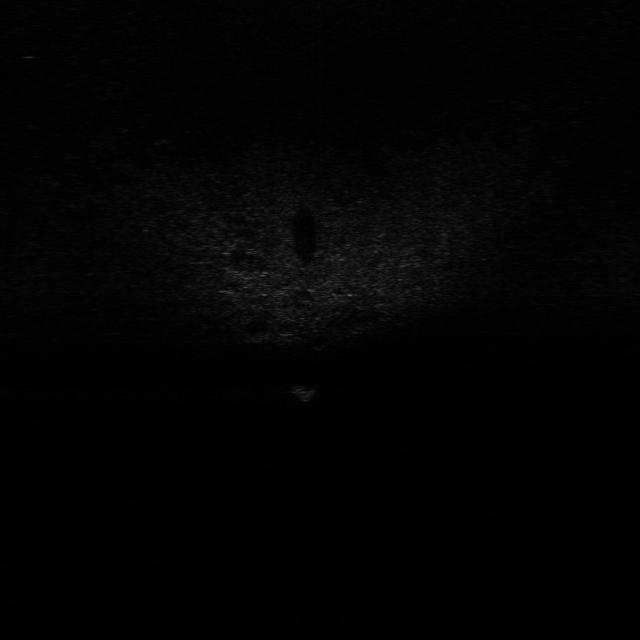cube: (290, 381, 320, 405)
